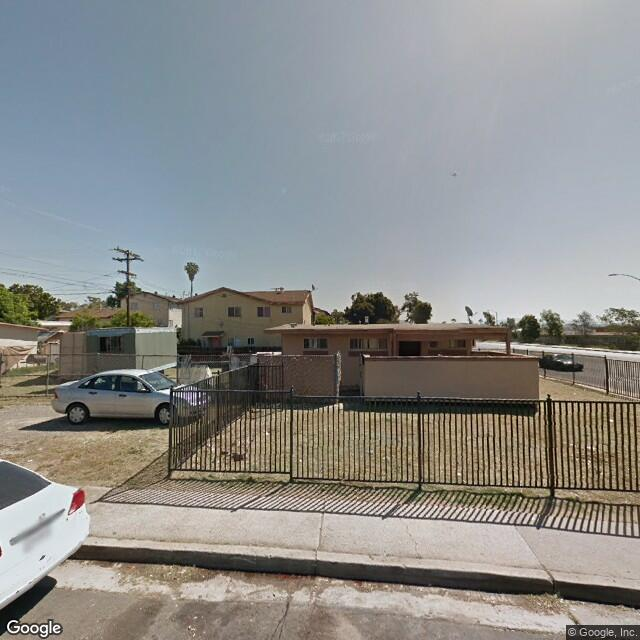litter: (558, 596, 573, 613), (111, 553, 126, 567)
